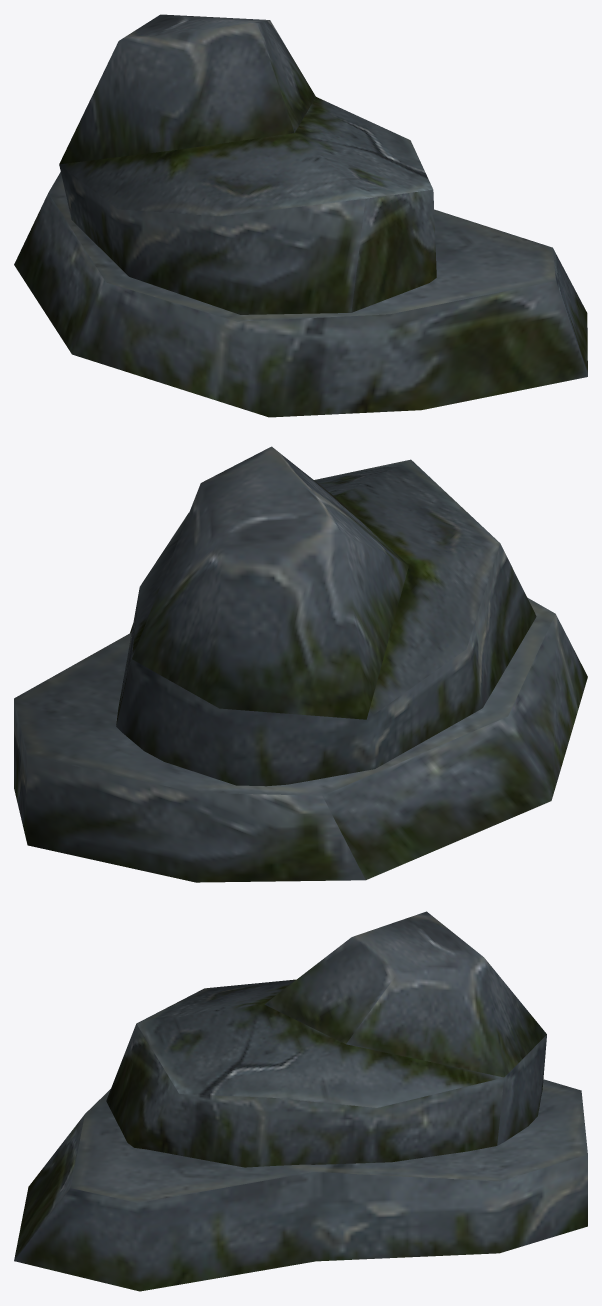
Rendered from C_shitou006.fbx.
3 views of the same model, one above another, from view 1: azimuth 30°, elevation 25°; view 2: azimuth 150°, elevation 25°; view 3: azimuth 270°, elevation 25° (orthographic). The views are drawn at different scales.
Visible parts, largest first — view 1: C_shitou006; view 2: C_shitou006; view 3: C_shitou006.
Part boxes in pixels (x1,y1,x2,y2): C_shitou006: (14,14,587,417); C_shitou006: (14,446,587,882); C_shitou006: (14,911,587,1291).
Bounding box in the file's own units: 76.07 × 44.46 × 91.9.
